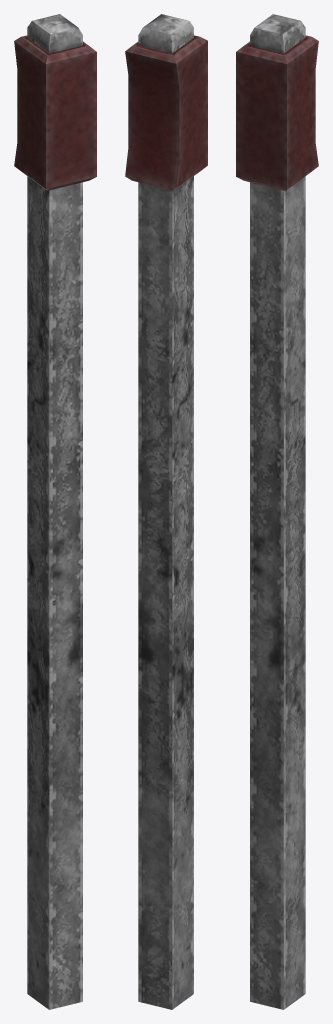
The model's file is Crane Lever.fbx.
3 renders of one model, left to right at view 1: azimuth 30°, elevation 25°; view 2: azimuth 150°, elevation 25°; view 3: azimuth 330°, elevation 25°, orthographic.
Parts seen in each view (by area): view 1: Cube.049; view 2: Cube.049; view 3: Cube.049.
Part boxes in pixels (x1,y1,x2,y2): Cube.049: (14, 14, 96, 1009); Cube.049: (125, 14, 207, 1009); Cube.049: (236, 14, 318, 1009).
Bounding box in the file's own units: 4.55 × 83.19 × 4.9.
